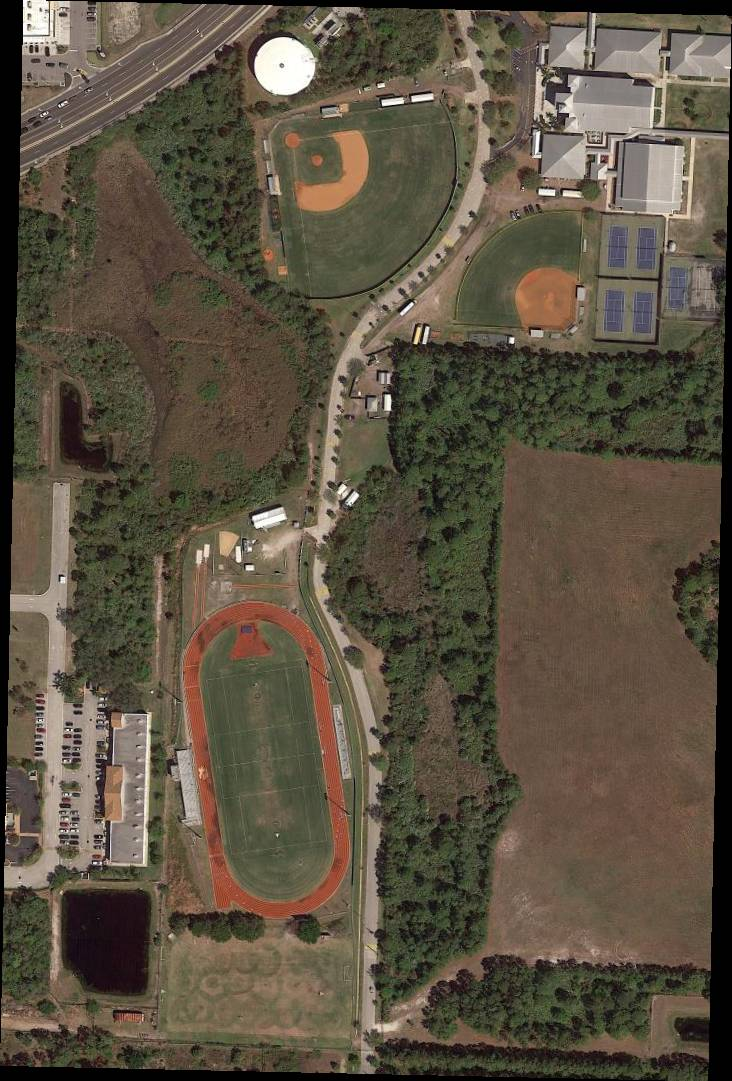baseball diamond: (294, 132, 373, 216), (514, 266, 579, 330)
ground track field: (169, 594, 355, 928)
large vehicle: (399, 299, 419, 318), (413, 324, 423, 345)
soccer ball field: (206, 658, 329, 863)
storage tank: (254, 35, 317, 96)
tennis court: (604, 290, 626, 333), (633, 292, 654, 334), (636, 228, 657, 270), (608, 226, 629, 268), (668, 267, 688, 309), (697, 268, 716, 312)
